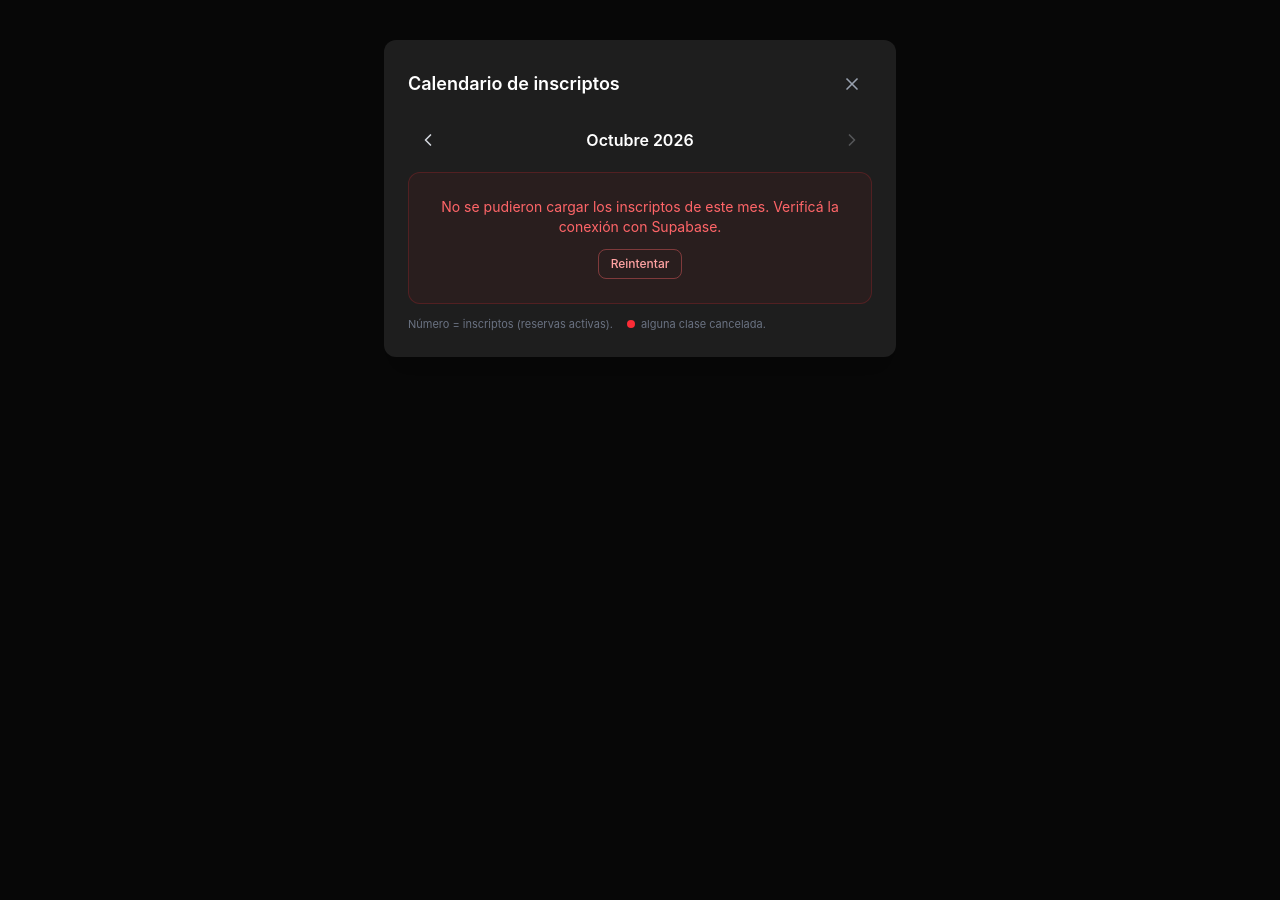
CalendarioClases (Clases > "Ver calendario") › si falla la consulta del mes, lo dice y deja reintentar
Expected: the text "No se pudieron cargar los inscriptos de este mes" is shown, [441,198,839,235]
Click the button "Reintentar": point(640, 264) [598,249,682,279]
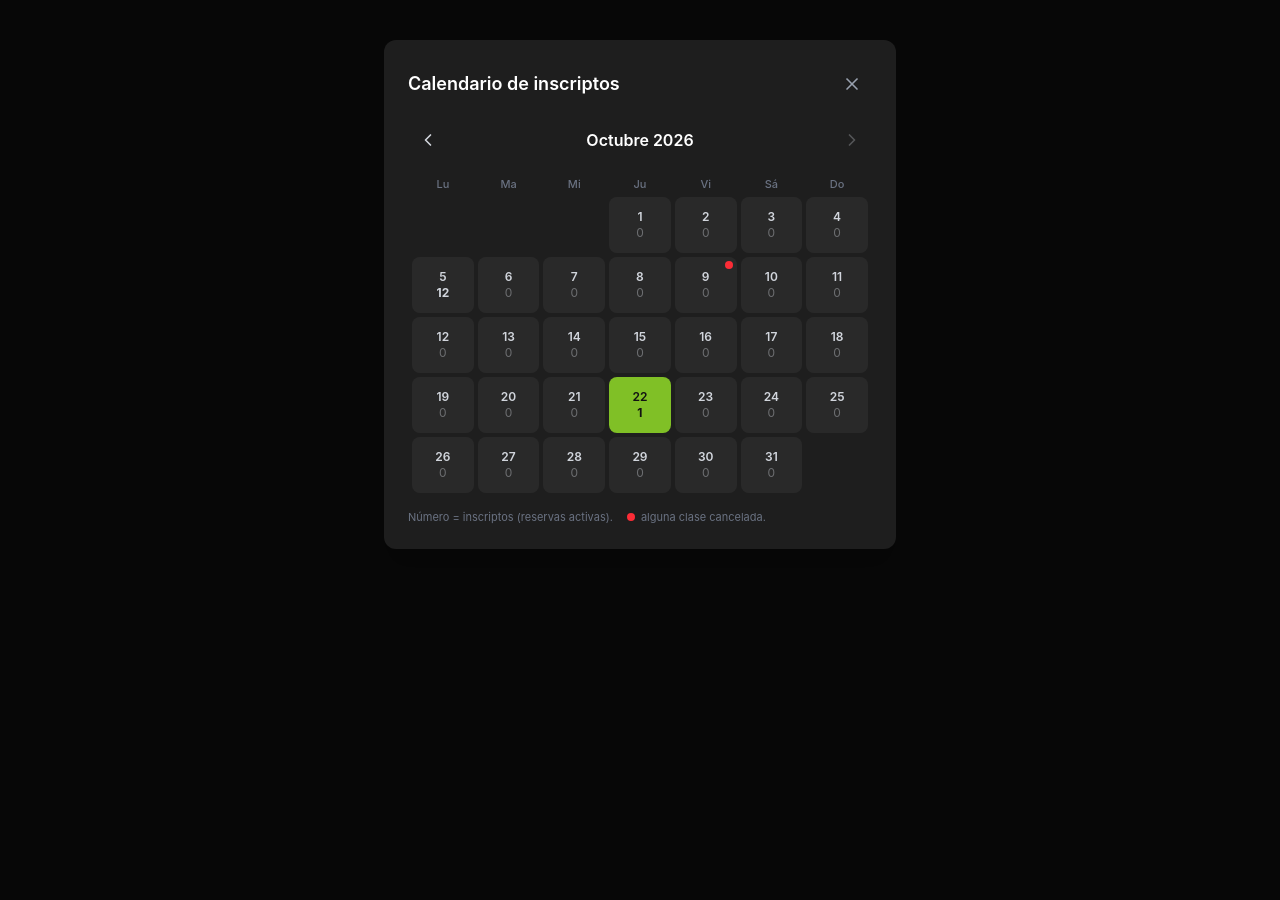
Now the button named "5 de Octubre 2026: 12 inscriptos" is shown, box [412,256,474,312]
